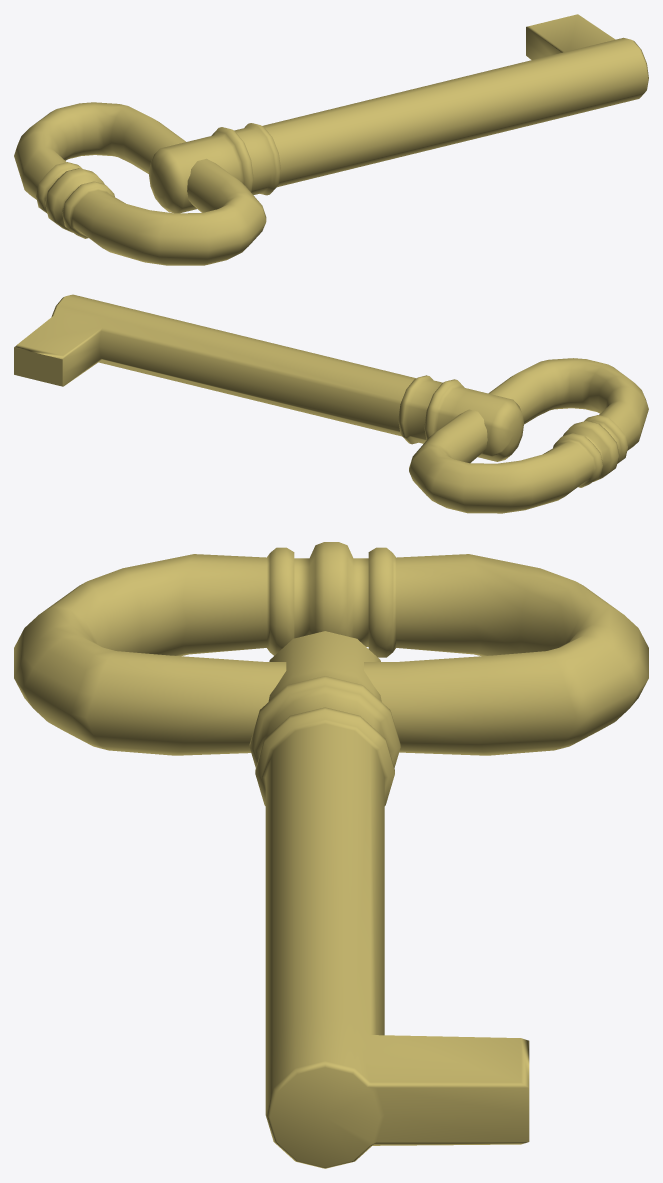
The model's file is clef.fbx.
3 views of the same model, one above another, from view 1: azimuth 30°, elevation 25°; view 2: azimuth 150°, elevation 25°; view 3: azimuth 270°, elevation 25° (orthographic). The views are drawn at different scales.
Parts seen in each view (by area): view 1: pCylinder3; view 2: pCylinder3; view 3: pCylinder3.
Part boxes in pixels (x1,y1,x2,y2): pCylinder3: (14, 14, 648, 265); pCylinder3: (14, 294, 648, 513); pCylinder3: (14, 542, 648, 1168).
Size of the model in its own units: 21.38 by 2.54 by 10.66.
